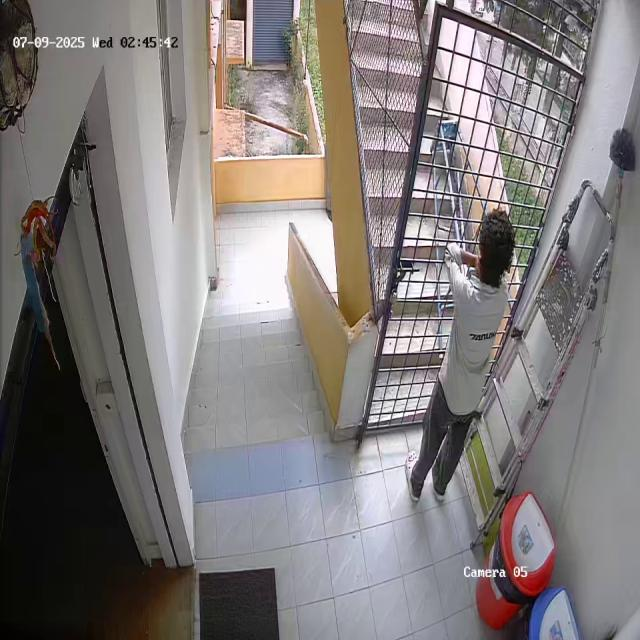person: (408, 207, 512, 503)
